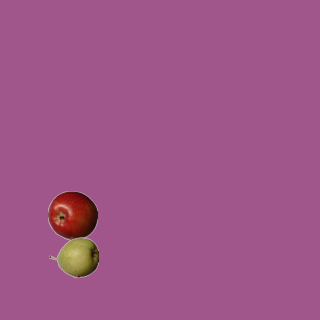Apple Braeburn: (47, 190, 97, 240)
Pear: (48, 232, 98, 282)
